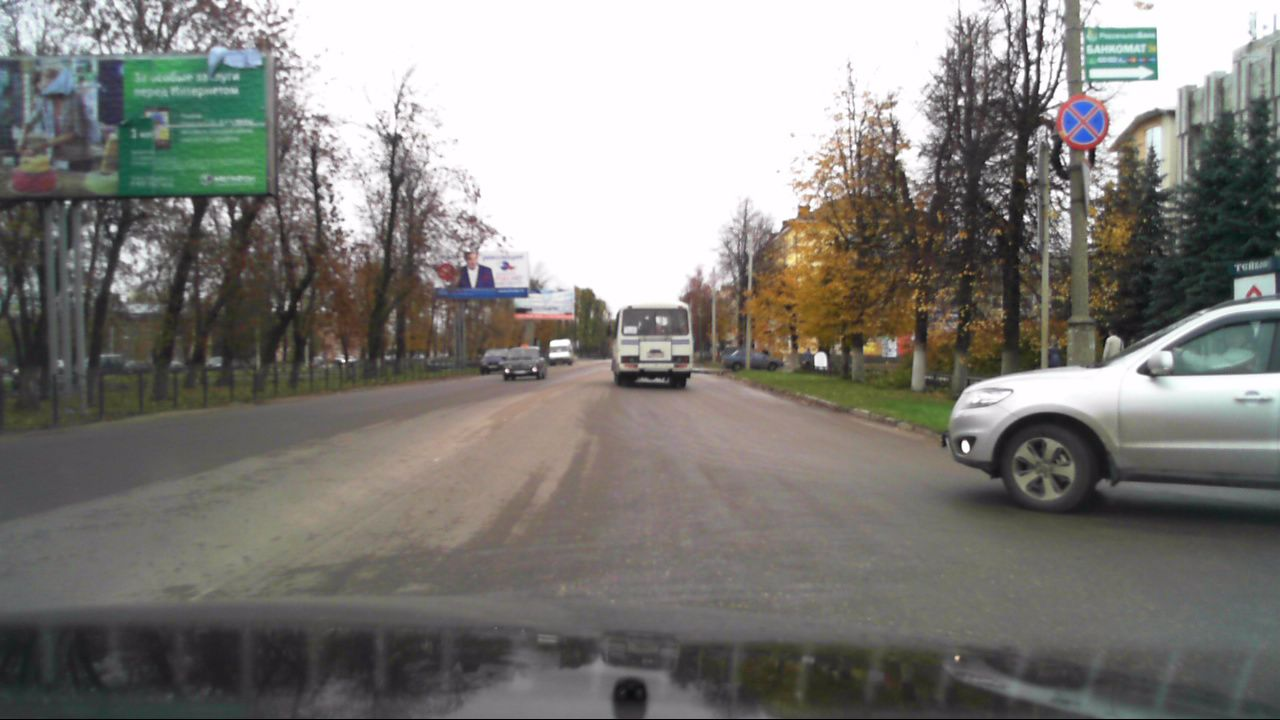No Parking: (1057, 95, 1109, 150)
